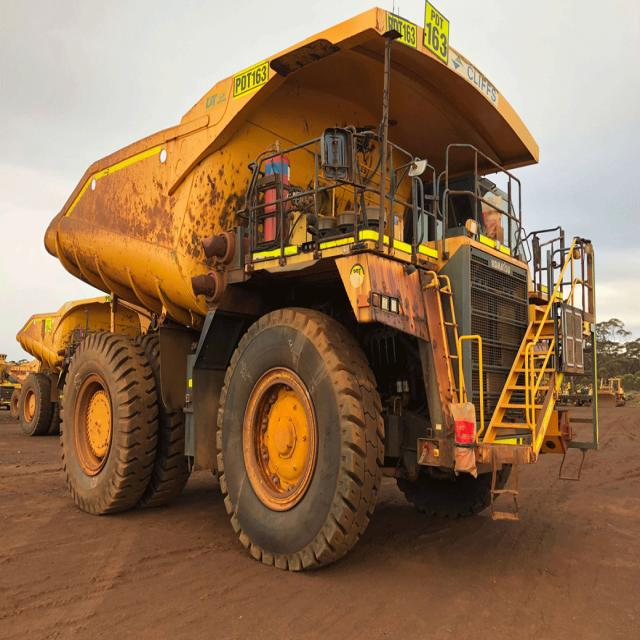dump_truck: (50, 4, 608, 575)
